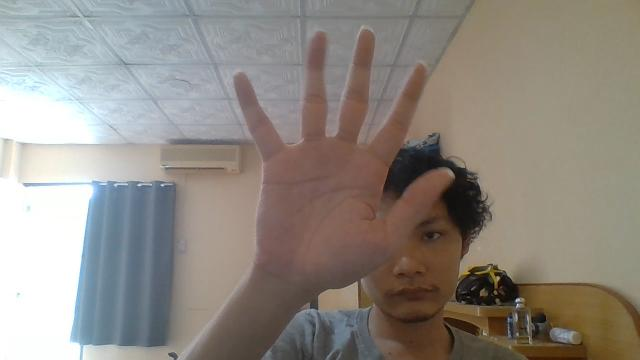Stop: (232, 25, 428, 295)
